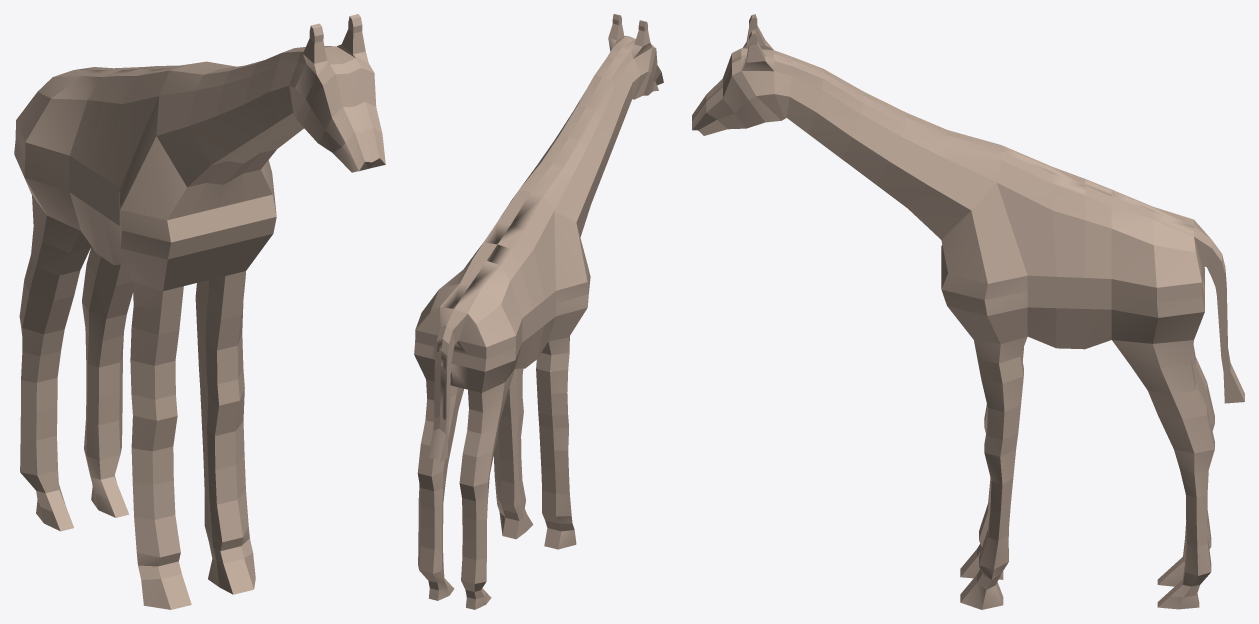
File: girrafe.fbx
3 renders of one model, left to right at view 1: azimuth 30°, elevation 25°; view 2: azimuth 150°, elevation 25°; view 3: azimuth 270°, elevation 25°, orthographic. The views are drawn at different scales.
Visible parts, largest first — view 1: giraffe; view 2: giraffe; view 3: giraffe.
Boxes of the visible parts, <box> form: giraffe: <box>14,14,385,609</box>; giraffe: <box>414,14,663,609</box>; giraffe: <box>692,14,1244,609</box>.
Bounding box in the file's own units: 187 × 798 × 702.
